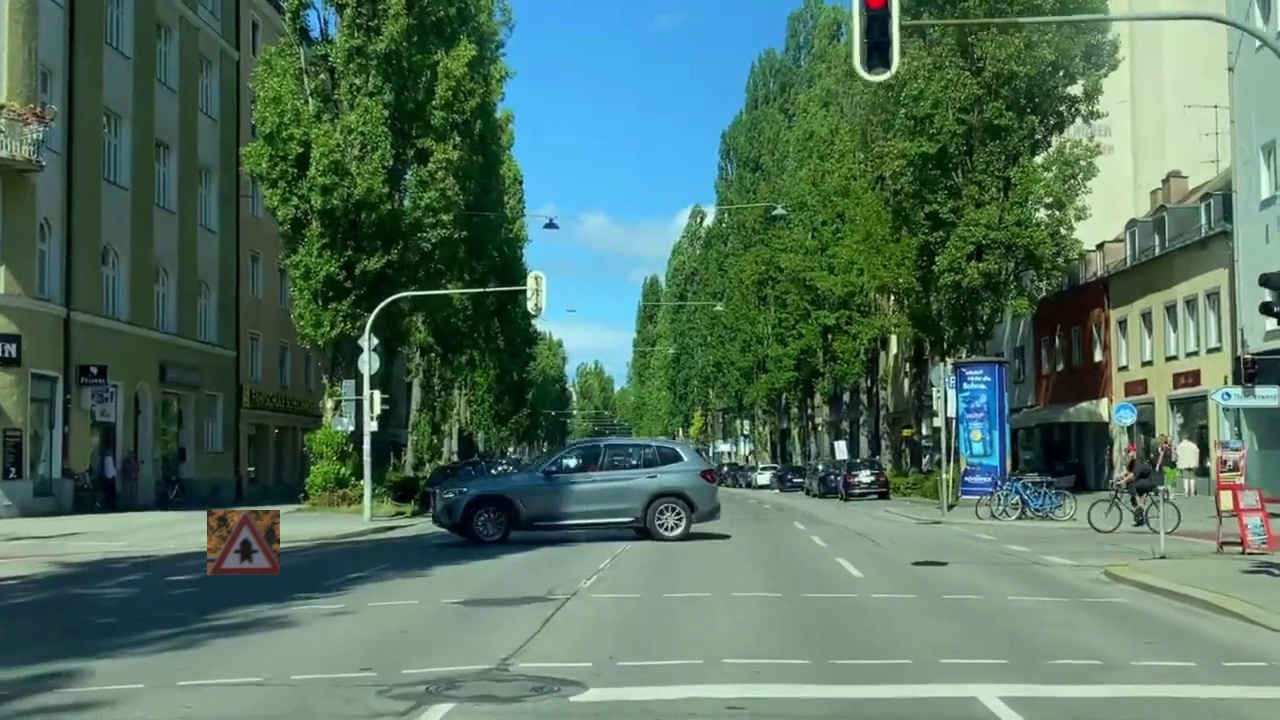Right-of-way: (207, 510, 280, 575)
